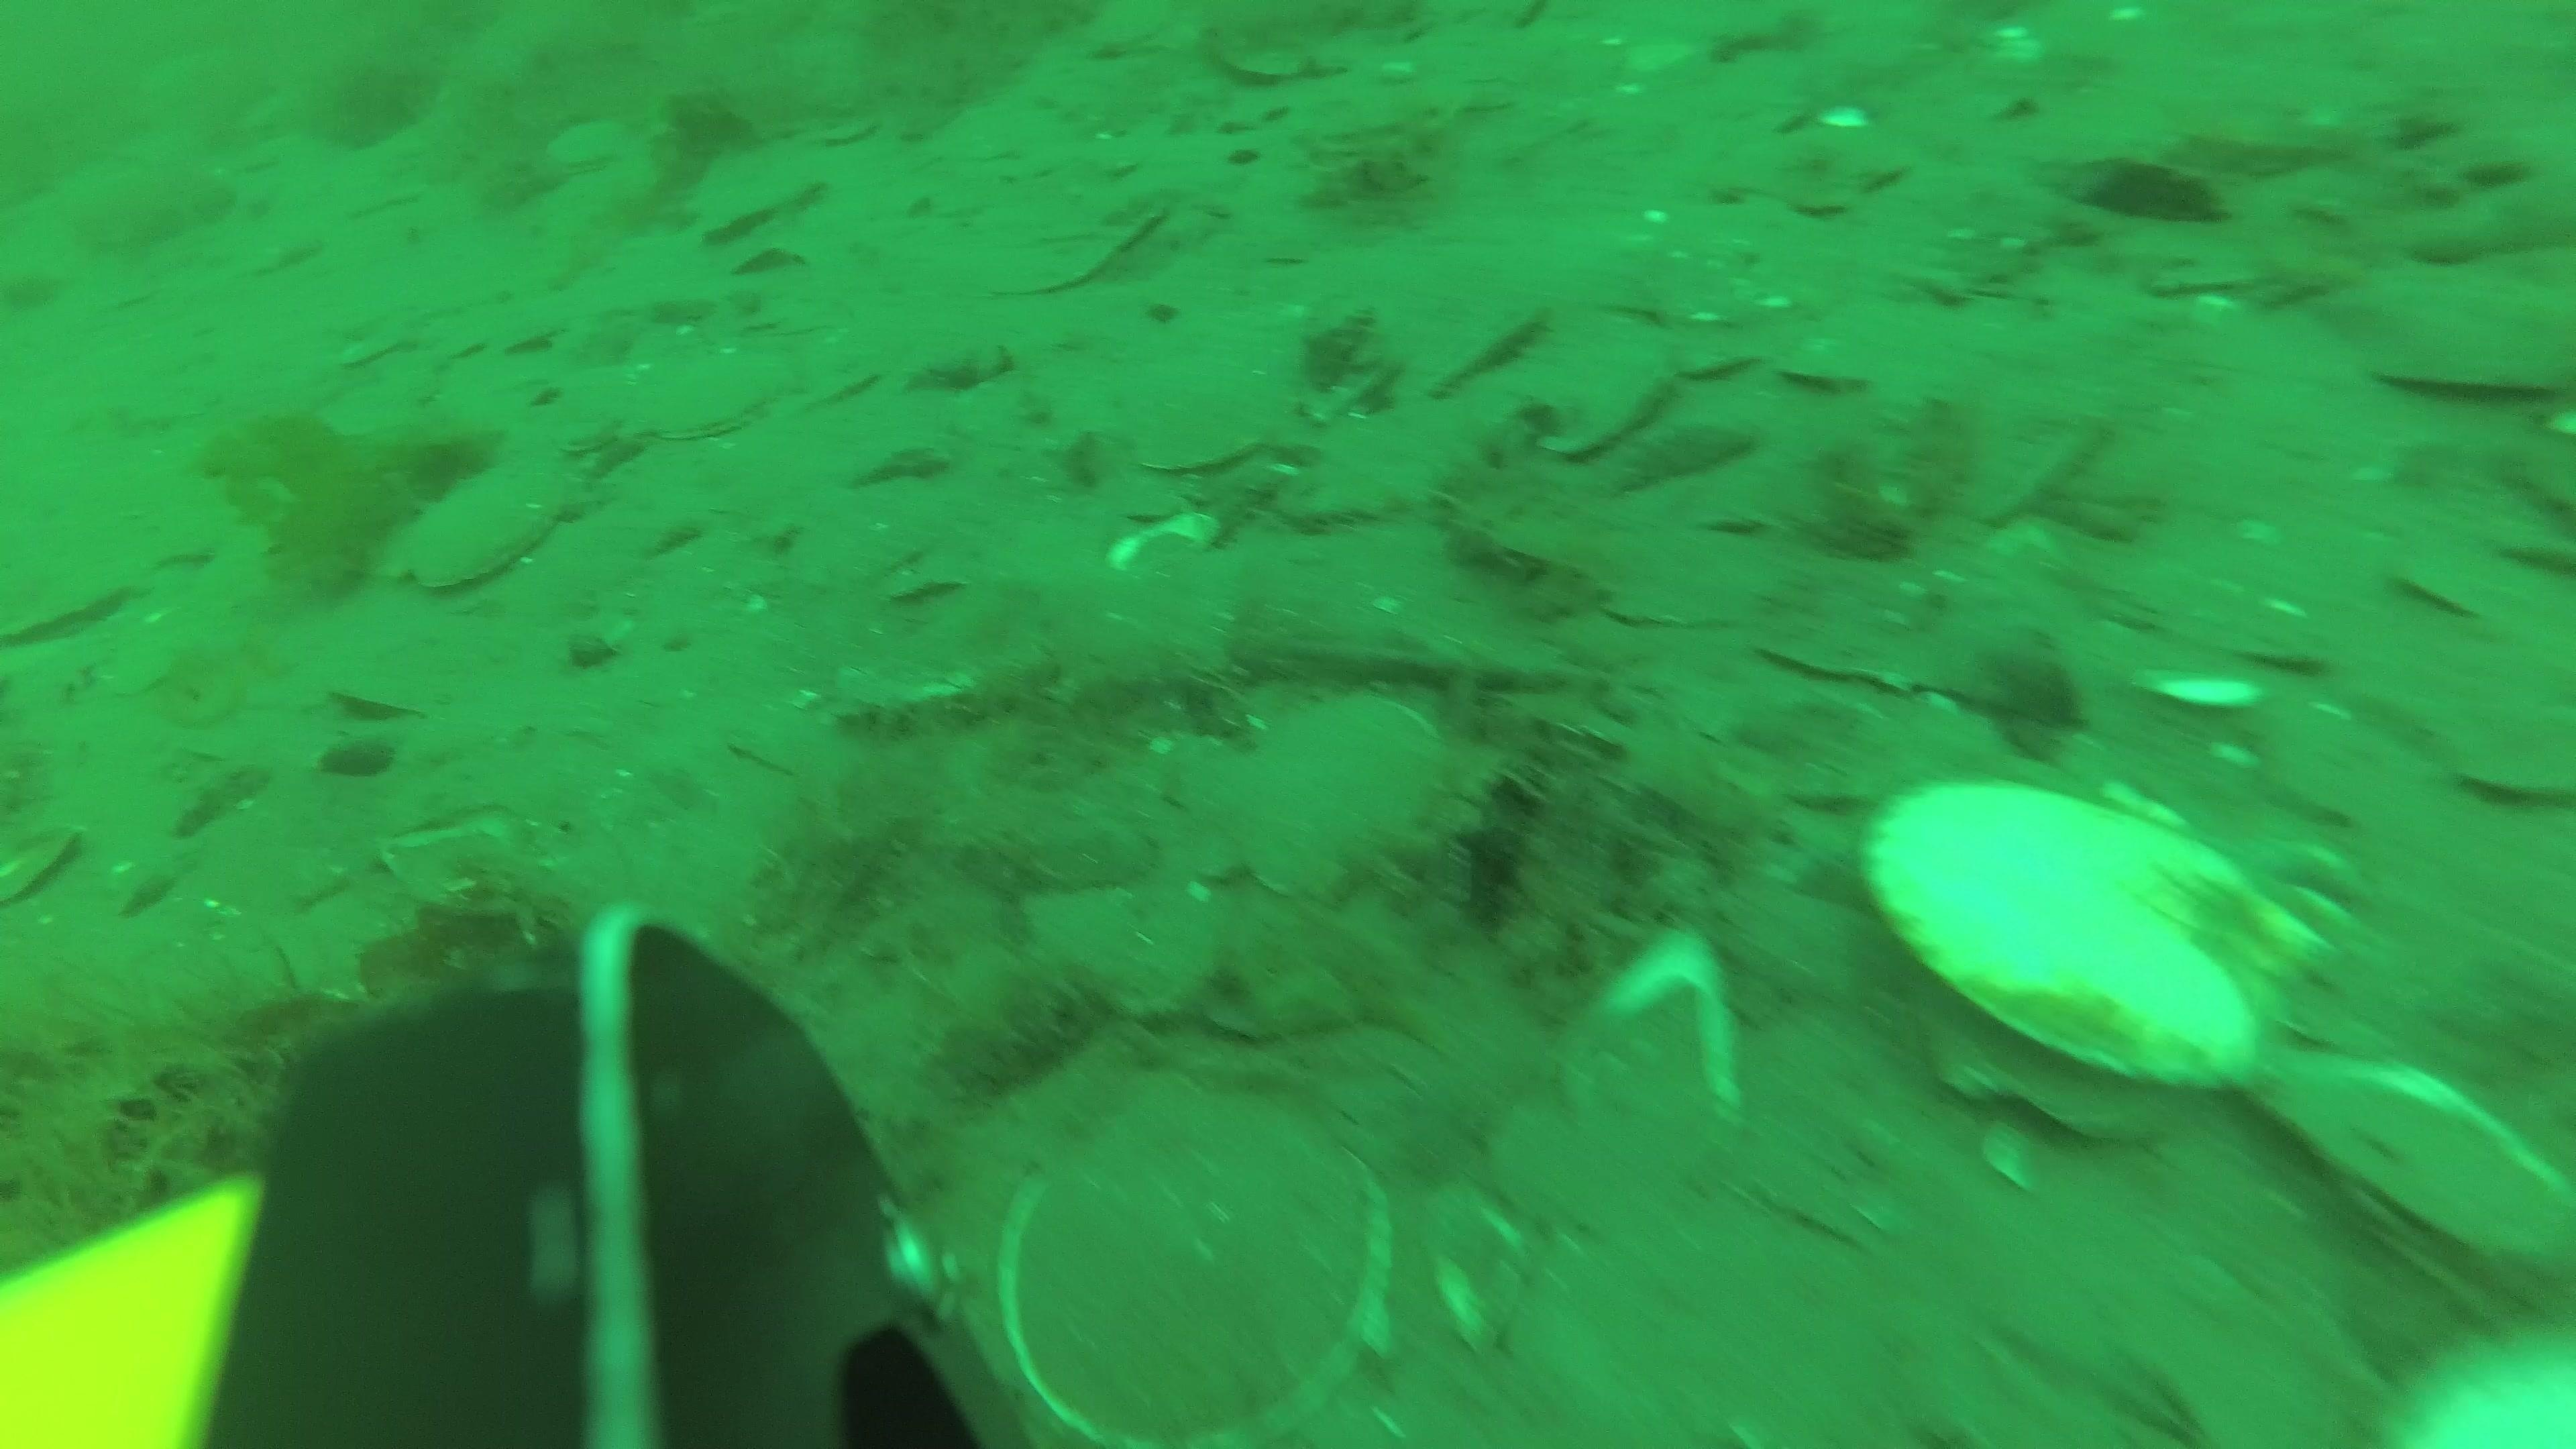scallop: (1859, 768, 2332, 1123), (991, 1074, 1394, 1444), (2242, 1049, 2571, 1316), (1194, 692, 1449, 906), (2325, 248, 2572, 403), (1028, 879, 1219, 1019), (393, 467, 577, 596), (1116, 345, 1293, 478), (630, 347, 800, 448), (688, 149, 833, 246), (1076, 0, 1200, 64)
